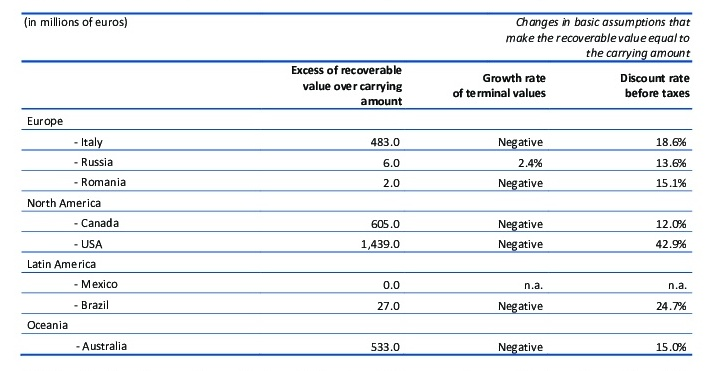table: (0, 0, 710, 371)
